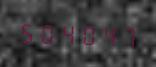five: (17, 17, 36, 45)
four: (98, 20, 117, 48), (58, 19, 77, 46)
seven: (118, 21, 137, 49)
zero: (37, 18, 56, 46), (78, 20, 97, 47)
